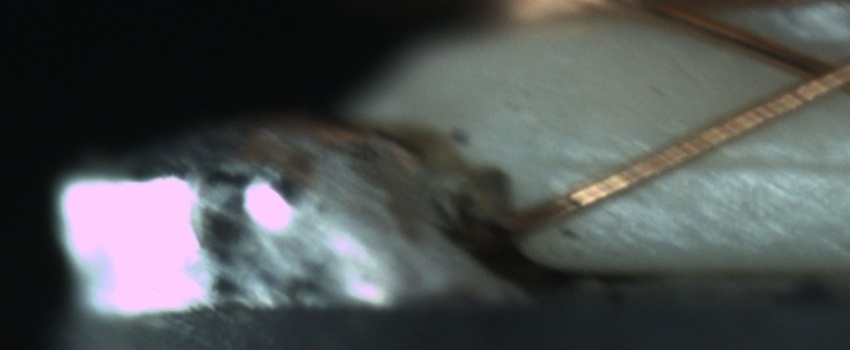CL: (774, 42, 849, 106)
DL: (555, 132, 849, 195)
